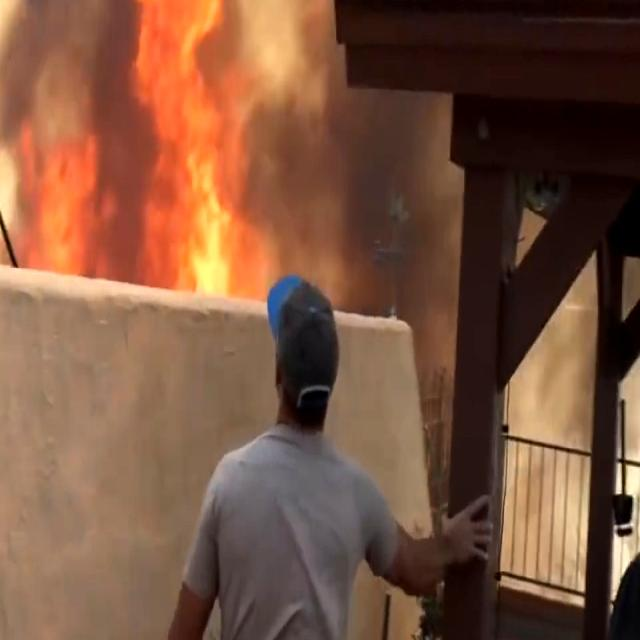fire: (113, 0, 270, 287), (14, 84, 110, 302)
smoke: (288, 98, 452, 266), (4, 0, 120, 107)
